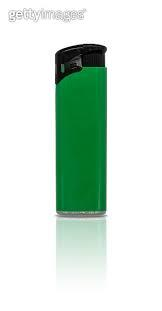lighter: (55, 41, 109, 218)
